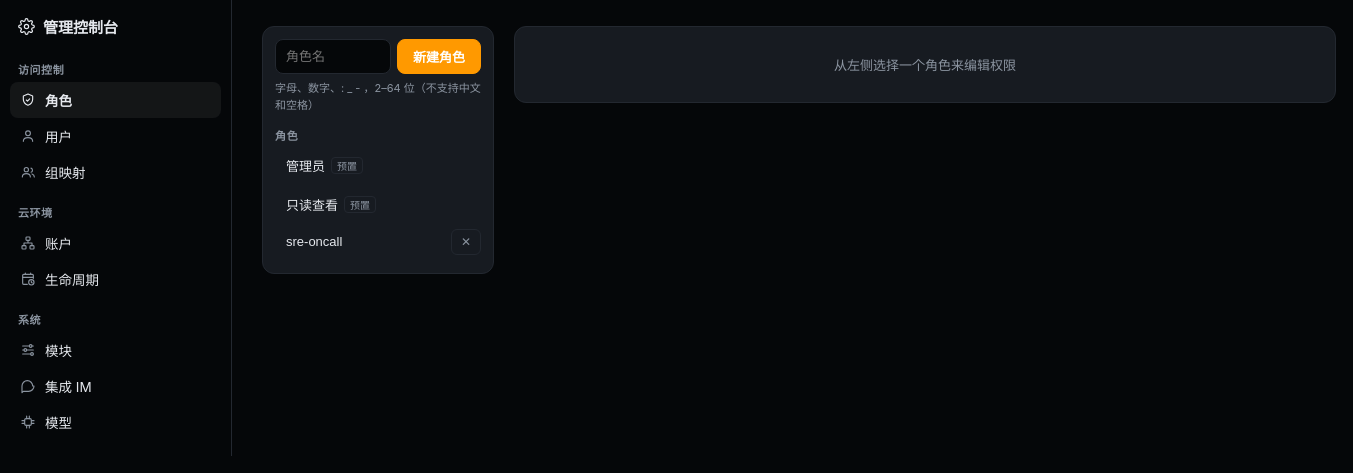
Test: 管理 → 角色 → 新建角色 › 名字留空点新建 → 给出提示，而不是静默什么都不做
Expected: the text "sre-oncall" is shown, x1=286 y1=234 x2=342 y2=249
Click the button "新建角色".
click(439, 56)  # box x1=397 y1=39 x2=481 y2=74
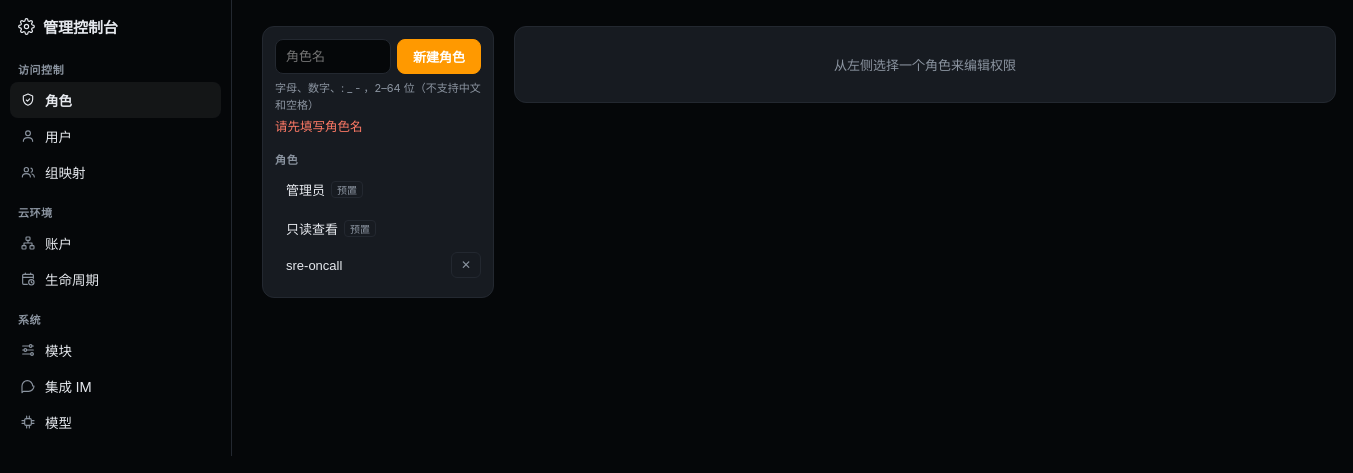
Expected: the text "请先填写角色名" is shown, x1=275 y1=119 x2=362 y2=134
